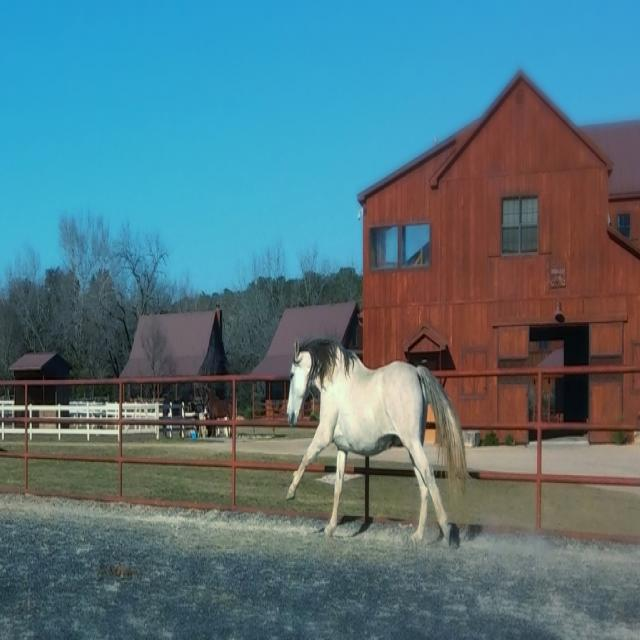Horse: (286, 334, 474, 548)
